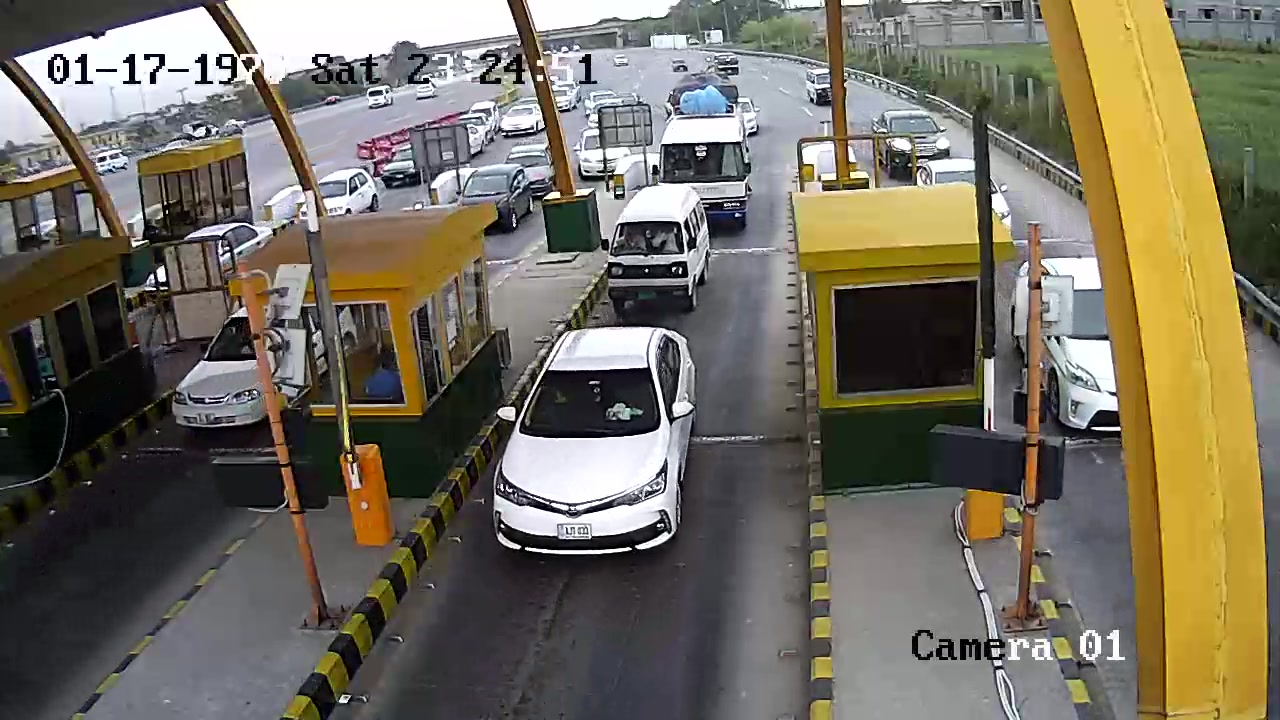F1: (488, 323, 700, 580)
